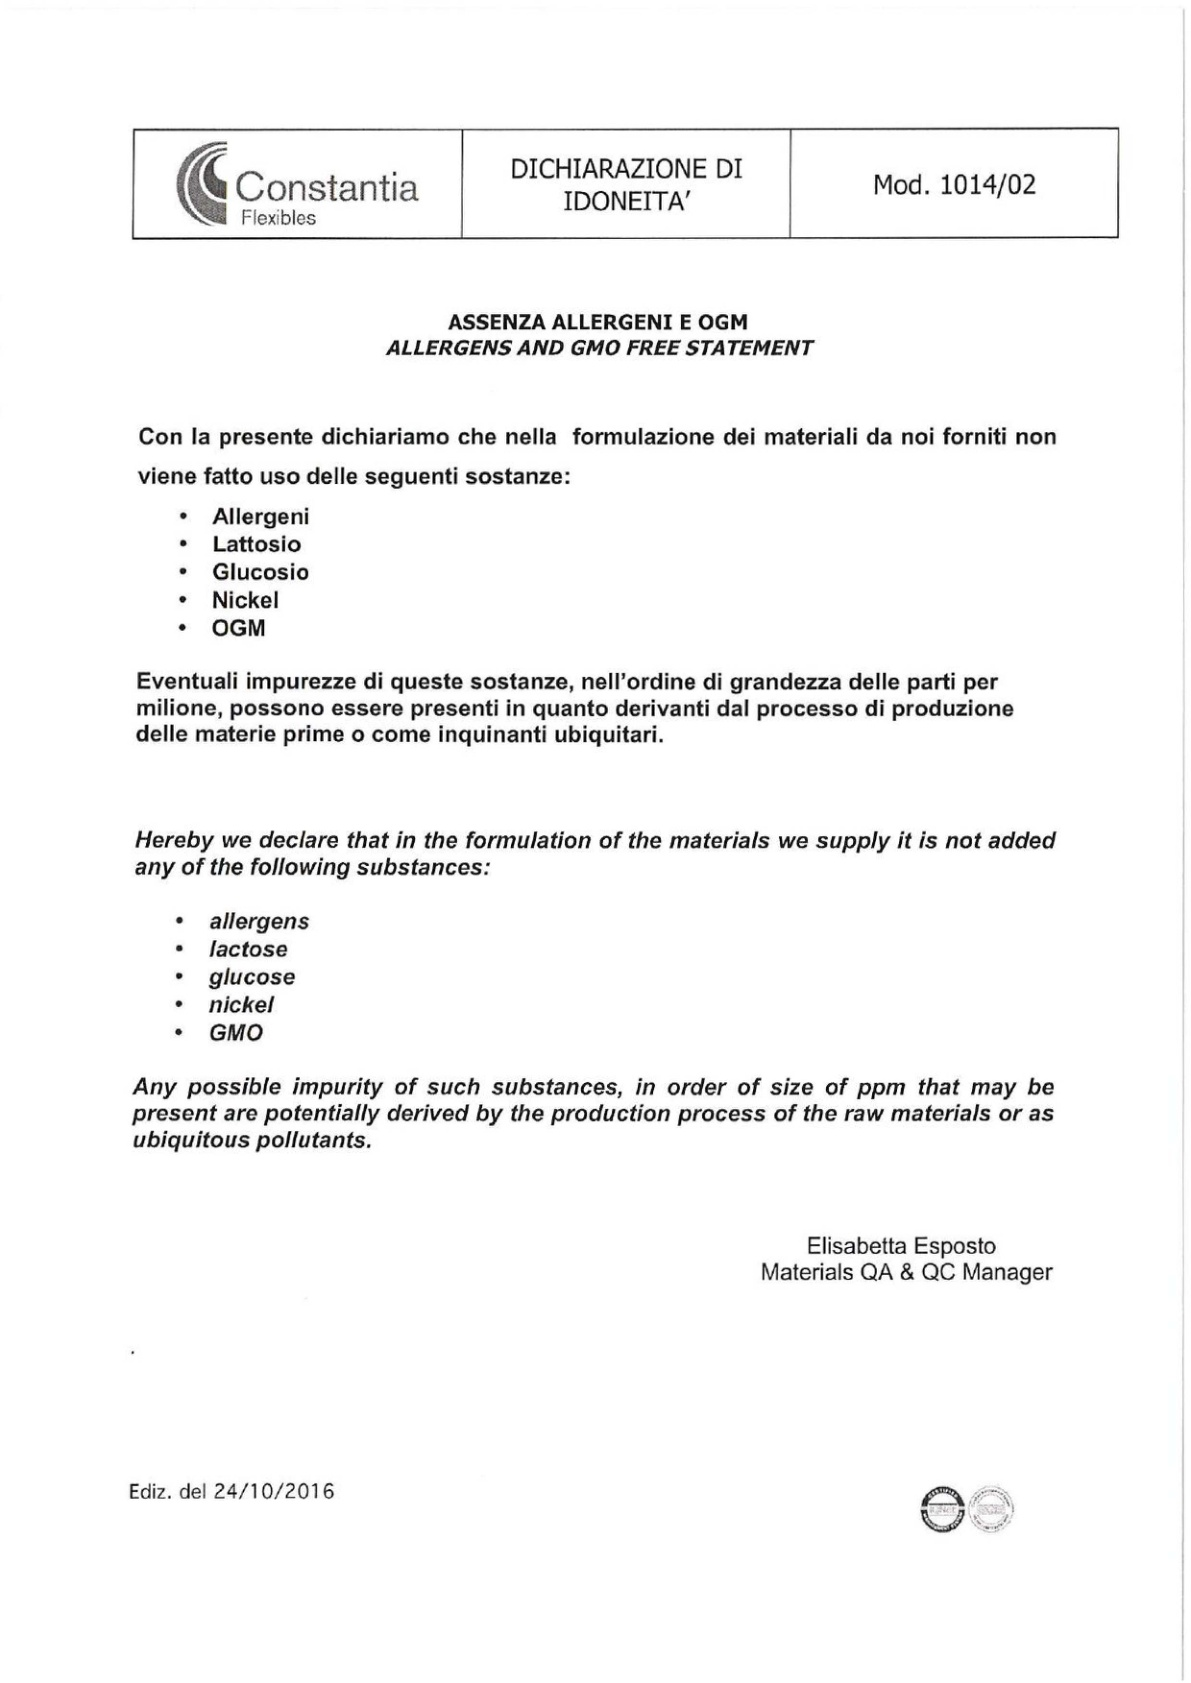full_lined: (130, 128, 1120, 238)
